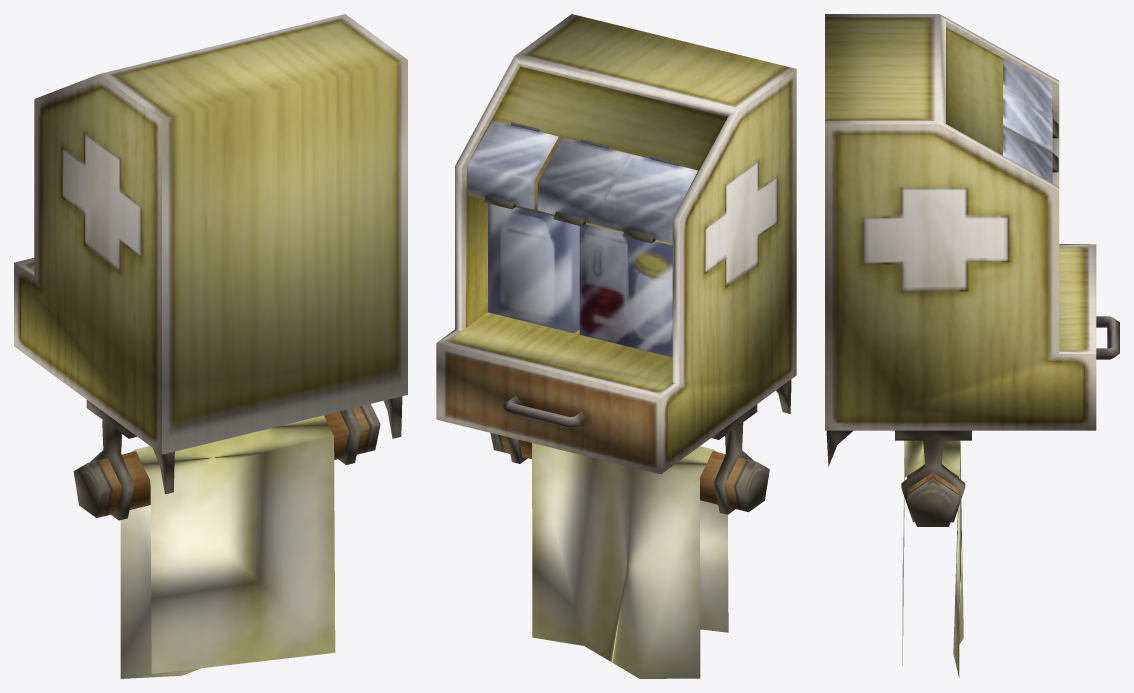
The model's file is a_SWIclin02.glb.
3 views of the same model, side by side, from view 1: azimuth 30°, elevation 25°; view 2: azimuth 150°, elevation 25°; view 3: azimuth 270°, elevation 25° (orthographic). The views are drawn at different scales.
Parts seen in each view (by area): view 1: a_SWIclin02; view 2: a_SWIclin02; view 3: a_SWIclin02.
Part boxes in pixels (left/top/right/bottom): a_SWIclin02: left=14, top=14, right=407, bottom=678; a_SWIclin02: left=436, top=14, right=796, bottom=678; a_SWIclin02: left=825, top=14, right=1119, bottom=677.
Bounding box in the file's own units: 0.6332 × 1.38 × 0.6333.
Materials: 1 (1 with a texture image).
